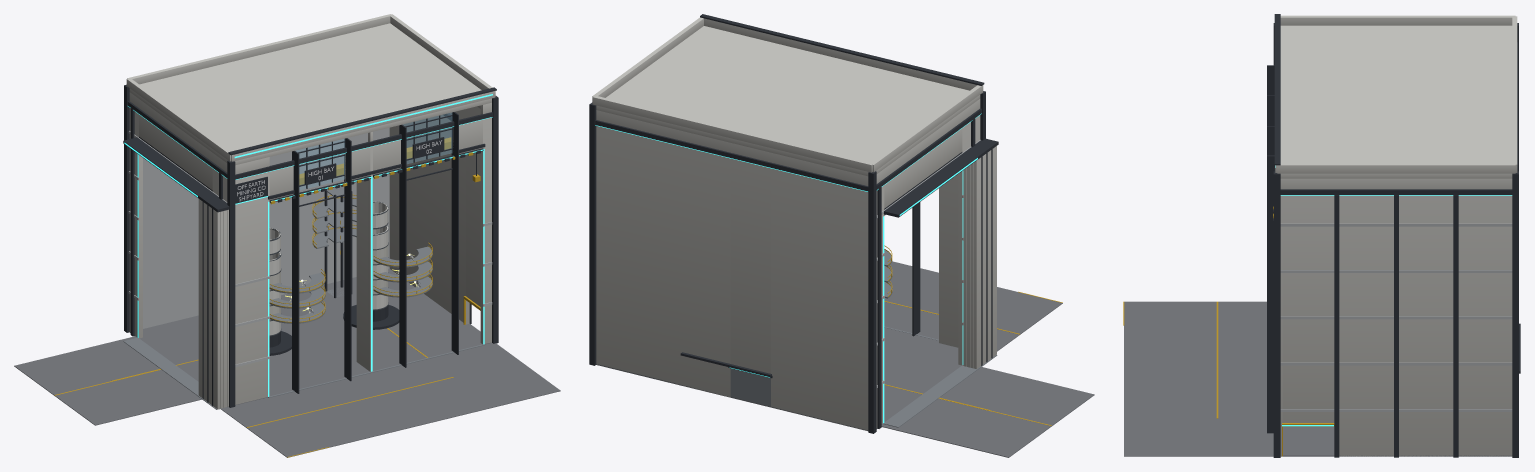
File: shipyard_hb01_lv30_c_da8cad5d.glb
3 renders of one model, left to right at view 1: azimuth 30°, elevation 25°; view 2: azimuth 150°, elevation 25°; view 3: azimuth 270°, elevation 25°, orthographic. The views are drawn at different scales.
Parts seen in each view (by area): view 1: HB30_Static, HB30_DoorSide, HB30_ExtendedRoof, HB30_DecksB, HB30_BuildStackB, HB30_DecksA, HB30_BuildStackA; view 2: HB30_Static, HB30_DoorSide, HB30_ExtendedRoof; view 3: HB30_Static, HB30_ExtendedRoof.
Part boxes in pixels (x1,y1,x2,y2): HB30_Static: (14, 14, 560, 457); HB30_DoorSide: (198, 199, 228, 409); HB30_ExtendedRoof: (127, 92, 492, 204); HB30_DecksB: (312, 194, 432, 297); HB30_BuildStackB: (373, 201, 388, 321); HB30_DecksA: (269, 269, 325, 323); HB30_BuildStackA: (269, 227, 281, 347); HB30_Static: (589, 14, 1094, 457); HB30_DoorSide: (963, 146, 996, 368); HB30_ExtendedRoof: (595, 99, 981, 191); HB30_Static: (1123, 14, 1520, 457); HB30_ExtendedRoof: (1273, 42, 1517, 223).
Bounding box in the file's own units: 121 × 76.05 × 93.35.
